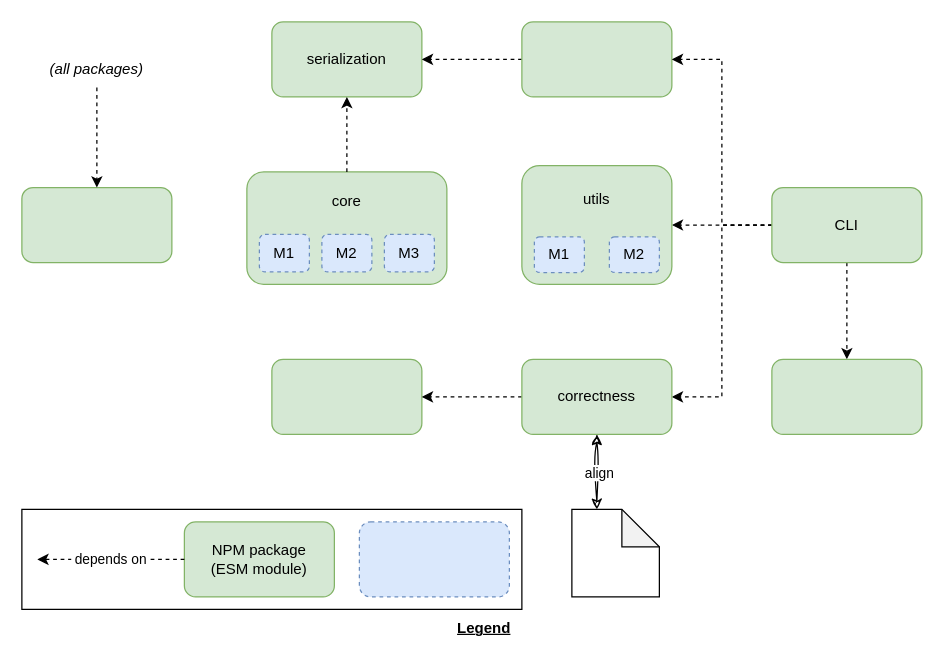
Image size: 944x669. Some labels were removed from this diagram. Here are the shapes that lost their labels. From the top down, the box of each, then its label:
(521, 21, 672, 97): serialization-utils
(21, 186, 172, 262): {base|ts}-utils
(271, 358, 422, 434): issues
(771, 358, 922, 434): generation
(358, 521, 509, 597): NPM sub package
(571, 508, 659, 597): correctness document
